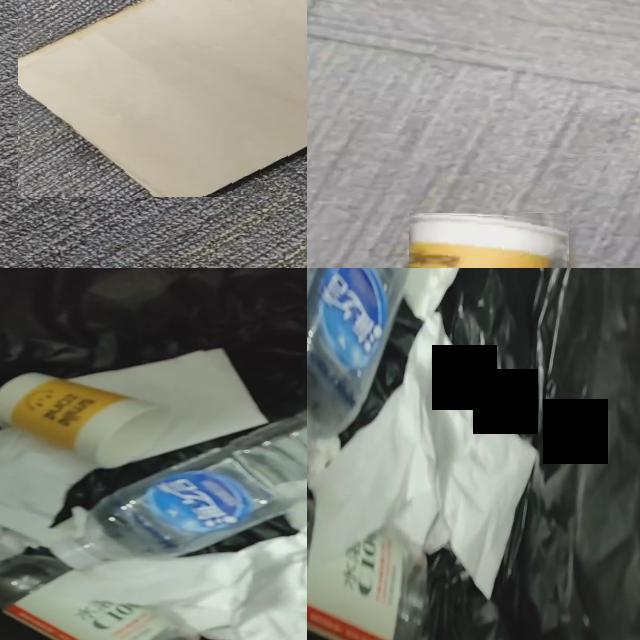bottle: (307, 268, 411, 459), (0, 552, 198, 640), (307, 500, 426, 640)
carton: (18, 0, 307, 197)
dixie_cup: (0, 373, 172, 468), (409, 214, 568, 268)
paper: (307, 314, 538, 598), (92, 533, 307, 640), (71, 349, 266, 456), (0, 428, 93, 546), (277, 479, 307, 533)
